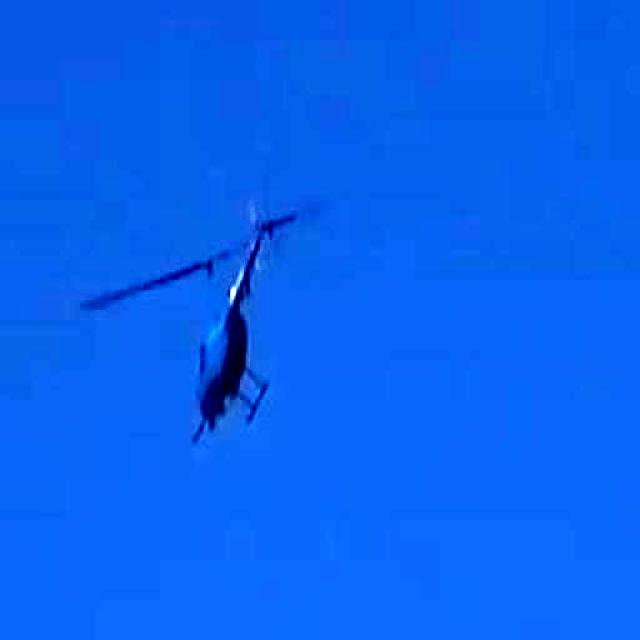drone: (112, 199, 342, 462)
